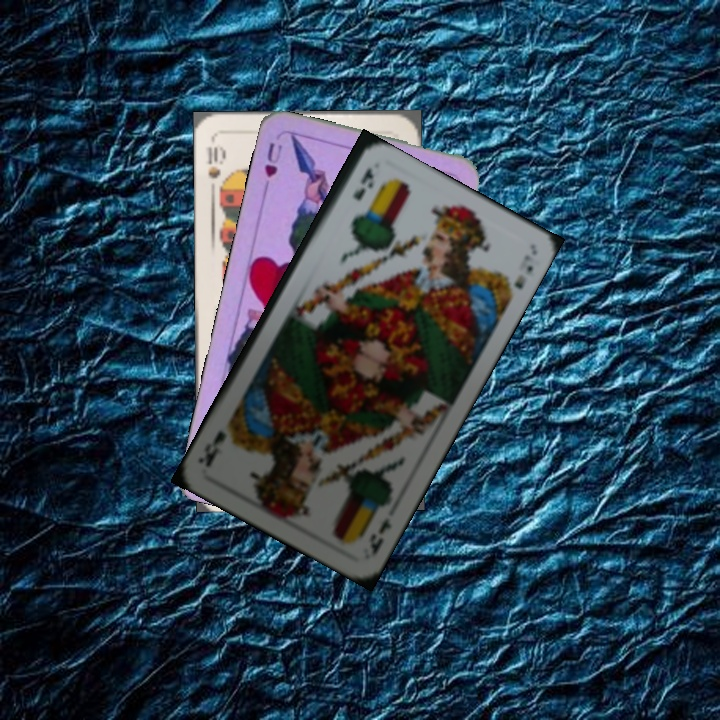EK: (365, 513, 394, 561), (348, 163, 376, 203)
HU: (259, 138, 285, 193)
S10: (202, 142, 228, 195)
